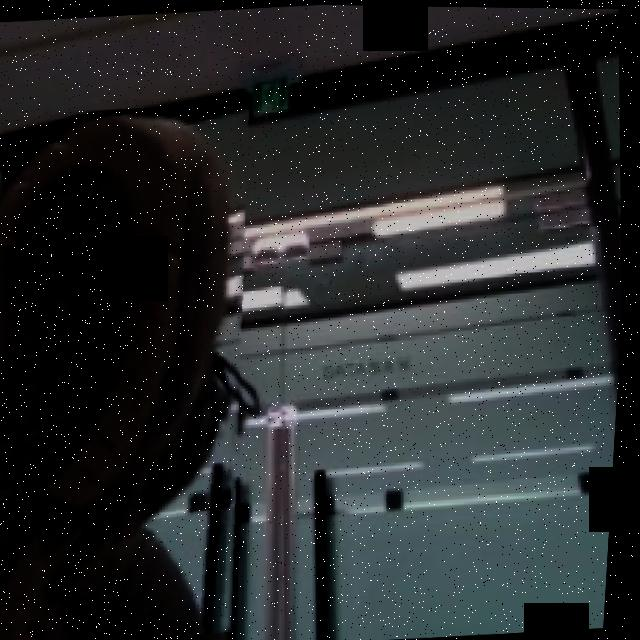shoe: (0, 98, 288, 640)
